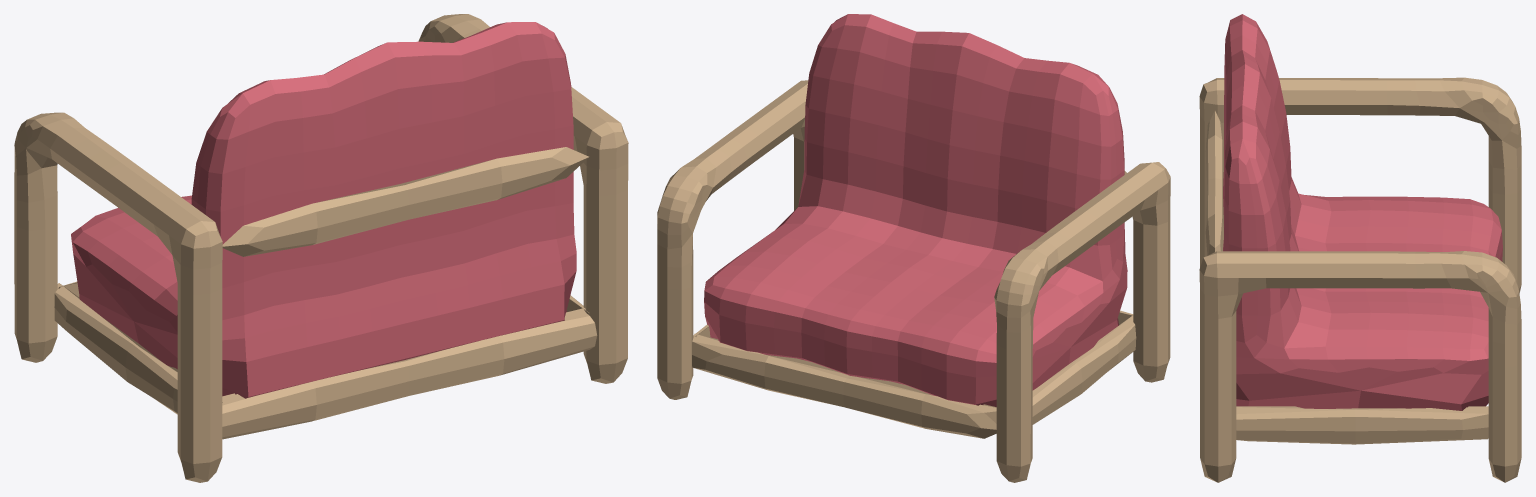
File: sofa.fbx
3 views of the same model, side by side, from view 1: azimuth 30°, elevation 25°; view 2: azimuth 150°, elevation 25°; view 3: azimuth 270°, elevation 25° (orthographic). The views are drawn at different scales.
Parts seen in each view (by area): view 1: Cube; view 2: Cube; view 3: Cube.
Boxes of the visible parts, box(x1,y1,x2,y2) form: Cube: box(14, 14, 628, 482); Cube: box(657, 14, 1170, 482); Cube: box(1199, 14, 1521, 482).
Size of the model in its own units: 153 by 125 by 109.
